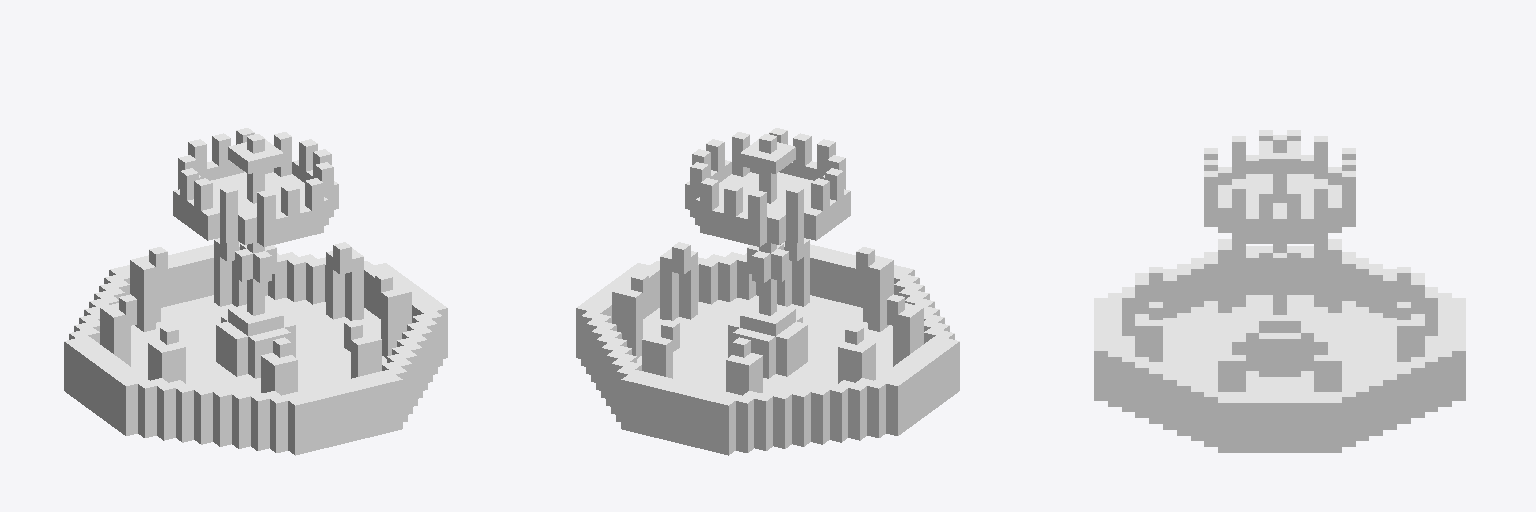
File: gglive_fountain.obj
3 renders of one model, left to right at view 1: azimuth 30°, elevation 25°; view 2: azimuth 150°, elevation 25°; view 3: azimuth 270°, elevation 25°, orthographic.
Visible parts, largest first — view 1: gglive_fountain; view 2: gglive_fountain; view 3: gglive_fountain.
Part boxes in pixels (left/top/right/bottom): gglive_fountain: left=64, top=128, right=447, bottom=455; gglive_fountain: left=576, top=128, right=959, bottom=455; gglive_fountain: left=1094, top=130, right=1465, bottom=452.
Size of the model in its own units: 27 by 19 by 27.